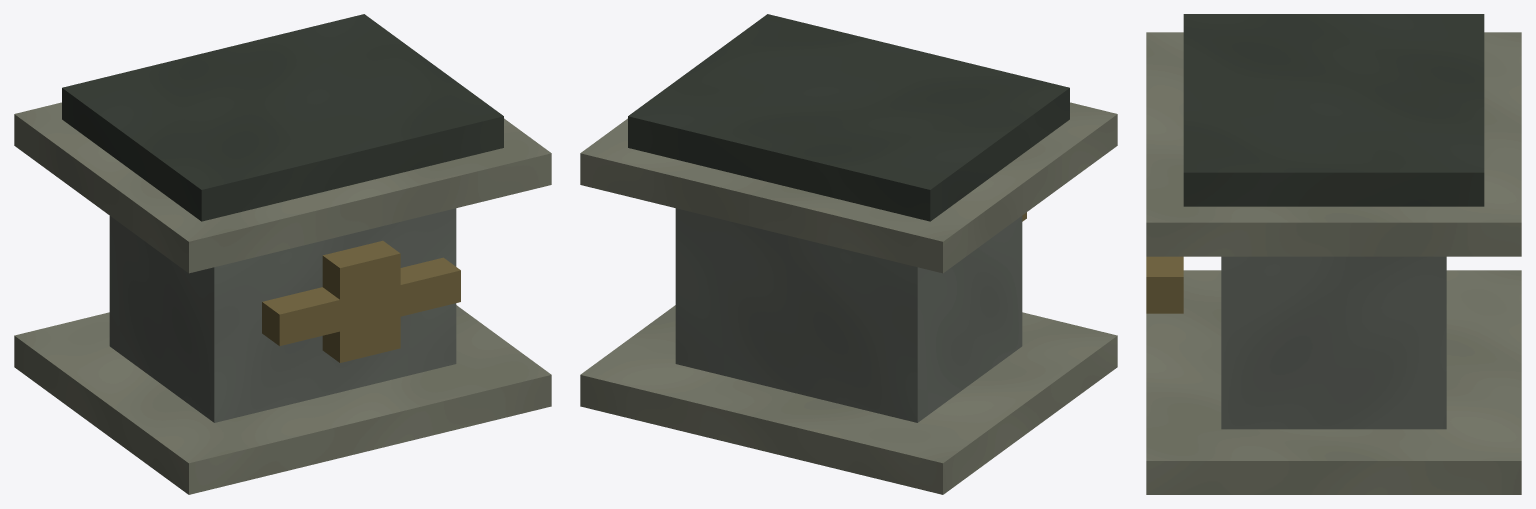
Rendered from ALTAR_A.glb.
The picture shows the model from 3 angles, left to right: view 1: azimuth 30°, elevation 25°; view 2: azimuth 150°, elevation 25°; view 3: azimuth 270°, elevation 25°; orthographic projection. The views are drawn at different scales.
Visible parts, largest first — view 1: ALTAR_A; view 2: ALTAR_A; view 3: ALTAR_A.
Part boxes in pixels (<box>): ALTAR_A: <box>14,14,551,494</box>; ALTAR_A: <box>580,14,1117,494</box>; ALTAR_A: <box>1146,14,1521,494</box>.
Size of the model in its own units: 1.5 by 1.12 by 1.25.
Materials: 4 (3 with a texture image).
